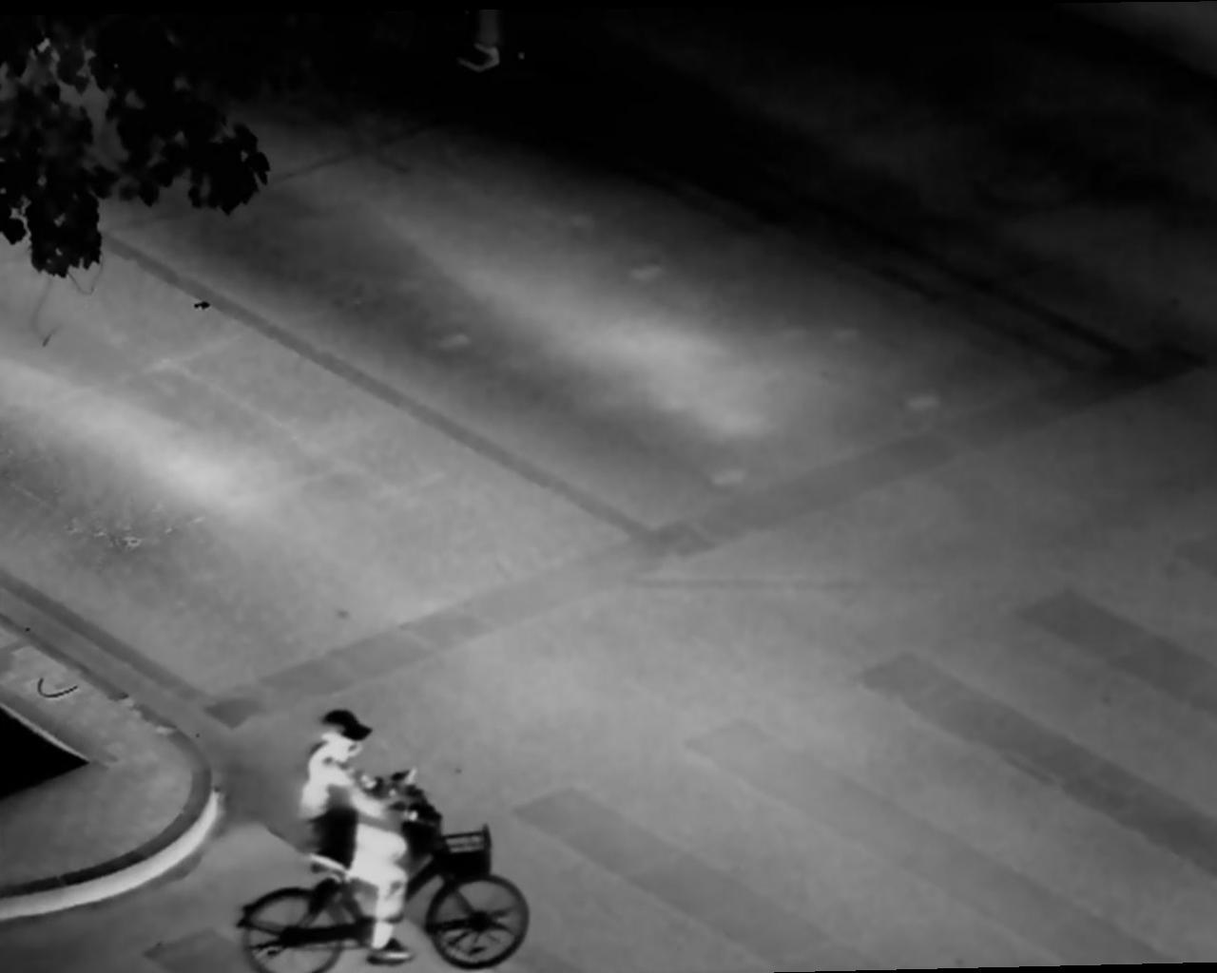person: (300, 701, 432, 973)
